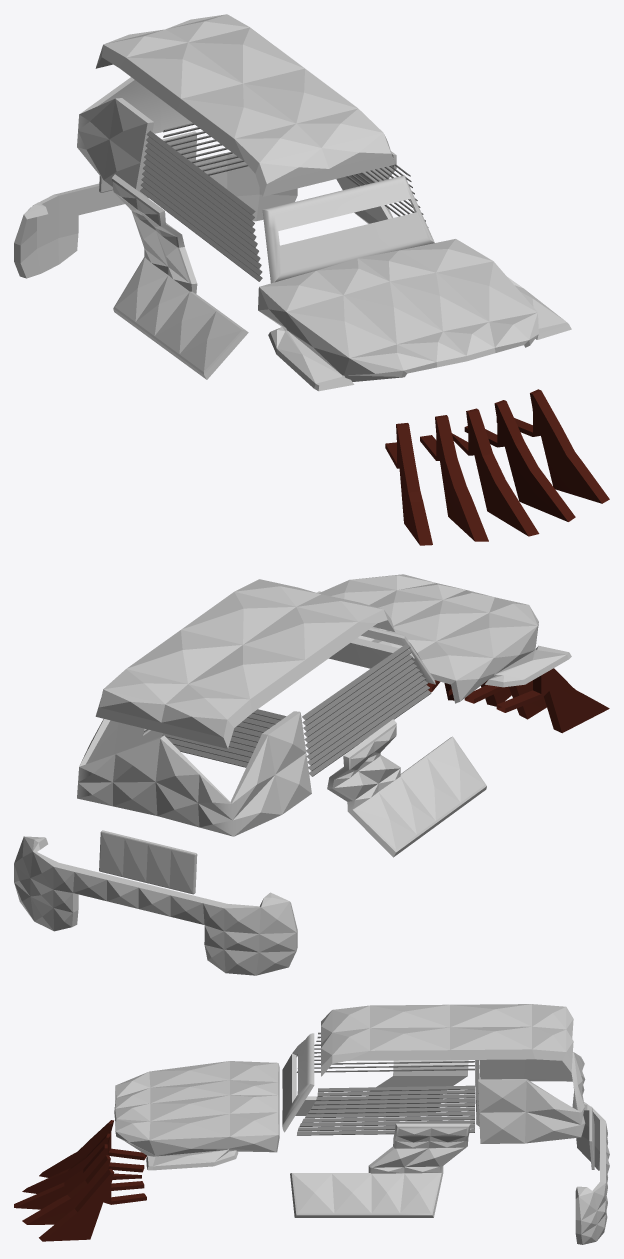
Rendered from Just Armor jeep.obj.
3 renders of one model, top to bottom at view 1: azimuth 30°, elevation 25°; view 2: azimuth 150°, elevation 25°; view 3: azimuth 270°, elevation 25°, orthographic. The views are drawn at different scales.
Visible parts, largest first — view 1: Jeep_Armor Body_With_Rollcage Jeep Armor_Panel_1_Geo, Jeep_Armor Body_With_Rollcage Jeep Armor_Panel_4_Geo, Grill Jeep_Armor Body_With_Rollcage Jeep, Jeep_Armor Body_With_Rollcage Jeep Armor_Panel_3_Geo1, Jeep_Armor Body_With_Rollcage Jeep Wind_screen, Jeep_Armor Body_With_Rollcage Jeep Window_Slats pCube13, Jeep_Armor Body_With_Rollcage Jeep Back_Panel, Jeep_Armor Body_With_Rollcage Jeep Armor_Panel_5_Geo, Jeep_Armor Body_With_Rollcage Jeep pCube12 Window_Slats, Jeep_Armor Body_With_Rollcage Jeep Armor_Panel_2_Geo; view 2: Jeep_Armor Body_With_Rollcage Jeep Armor_Panel_4_Geo, Jeep_Armor Body_With_Rollcage Jeep Armor_Panel_5_Geo, Jeep_Armor Body_With_Rollcage Jeep Armor_Panel_1_Geo, Jeep_Armor Body_With_Rollcage Jeep Back_Panel, Jeep_Armor Body_With_Rollcage Jeep Armor_Panel_3_Geo1, Jeep_Armor Body_With_Rollcage Jeep Window_Slats pCube13, Grill Jeep_Armor Body_With_Rollcage Jeep, Jeep_Armor Body_With_Rollcage Jeep Armor_Panel_6_Geo, Jeep_Armor Body_With_Rollcage Jeep pCube12 Window_Slats, Jeep_Armor Body_With_Rollcage Jeep Wind_screen; view 3: Jeep_Armor Body_With_Rollcage Jeep Armor_Panel_1_Geo, Jeep_Armor Body_With_Rollcage Jeep Armor_Panel_4_Geo, Jeep_Armor Body_With_Rollcage Jeep Armor_Panel_2_Geo, Jeep_Armor Body_With_Rollcage Jeep Window_Slats pCube13, Jeep_Armor Body_With_Rollcage Jeep Armor_Panel_5_Geo, Grill Jeep_Armor Body_With_Rollcage Jeep, Jeep_Armor Body_With_Rollcage Jeep Back_Panel, Jeep_Armor Body_With_Rollcage Jeep Armor_Panel_3_Geo1, Jeep_Armor Body_With_Rollcage Jeep Wind_screen.
Part boxes in pixels (x1=…): Jeep_Armor Body_With_Rollcage Jeep Armor_Panel_1_Geo: x1=258, y1=239, x2=571, y2=391; Jeep_Armor Body_With_Rollcage Jeep Armor_Panel_4_Geo: x1=95, y1=14, x2=394, y2=196; Grill Jeep_Armor Body_With_Rollcage Jeep: x1=385, y1=389, x2=609, y2=545; Jeep_Armor Body_With_Rollcage Jeep Armor_Panel_3_Geo1: x1=111, y1=174, x2=248, y2=379; Jeep_Armor Body_With_Rollcage Jeep Wind_screen: x1=262, y1=175, x2=434, y2=283; Jeep_Armor Body_With_Rollcage Jeep Window_Slats pCube13: x1=140, y1=130, x2=428, y2=281; Jeep_Armor Body_With_Rollcage Jeep Back_Panel: x1=14, y1=153, x2=297, y2=278; Jeep_Armor Body_With_Rollcage Jeep Armor_Panel_5_Geo: x1=77, y1=77, x2=191, y2=193; Jeep_Armor Body_With_Rollcage Jeep pCube12 Window_Slats: x1=163, y1=123, x2=247, y2=175; Jeep_Armor Body_With_Rollcage Jeep Armor_Panel_2_Geo: x1=336, y1=151, x2=396, y2=223; Jeep_Armor Body_With_Rollcage Jeep Armor_Panel_4_Geo: x1=95, y1=579, x2=394, y2=748; Jeep_Armor Body_With_Rollcage Jeep Armor_Panel_5_Geo: x1=77, y1=711, x2=311, y2=836; Jeep_Armor Body_With_Rollcage Jeep Armor_Panel_1_Geo: x1=317, y1=574, x2=571, y2=703; Jeep_Armor Body_With_Rollcage Jeep Back_Panel: x1=14, y1=836, x2=297, y2=975; Jeep_Armor Body_With_Rollcage Jeep Armor_Panel_3_Geo1: x1=327, y1=719, x2=486, y2=857; Jeep_Armor Body_With_Rollcage Jeep Window_Slats pCube13: x1=143, y1=643, x2=431, y2=776; Grill Jeep_Armor Body_With_Rollcage Jeep: x1=427, y1=668, x2=609, y2=733; Jeep_Armor Body_With_Rollcage Jeep Armor_Panel_6_Geo: x1=99, y1=830, x2=197, y2=894; Jeep_Armor Body_With_Rollcage Jeep pCube12 Window_Slats: x1=162, y1=709, x2=286, y2=767; Jeep_Armor Body_With_Rollcage Jeep Wind_screen: x1=329, y1=627, x2=435, y2=684; Jeep_Armor Body_With_Rollcage Jeep Armor_Panel_1_Geo: x1=114, y1=1061, x2=279, y2=1170; Jeep_Armor Body_With_Rollcage Jeep Armor_Panel_4_Geo: x1=321, y1=1004, x2=573, y2=1076; Jeep_Armor Body_With_Rollcage Jeep Armor_Panel_2_Geo: x1=290, y1=1123, x2=470, y2=1217; Jeep_Armor Body_With_Rollcage Jeep Window_Slats pCube13: x1=296, y1=1032, x2=474, y2=1135; Jeep_Armor Body_With_Rollcage Jeep Armor_Panel_5_Geo: x1=478, y1=1052, x2=585, y2=1143; Grill Jeep_Armor Body_With_Rollcage Jeep: x1=14, y1=1120, x2=146, y2=1241; Jeep_Armor Body_With_Rollcage Jeep Back_Panel: x1=575, y1=1102, x2=609, y2=1244; Jeep_Armor Body_With_Rollcage Jeep Armor_Panel_3_Geo1: x1=295, y1=1060, x2=468, y2=1115; Jeep_Armor Body_With_Rollcage Jeep Wind_screen: x1=282, y1=1033, x2=314, y2=1132.
Size of the model in its own units: 19.08 by 16.39 by 46.47.
